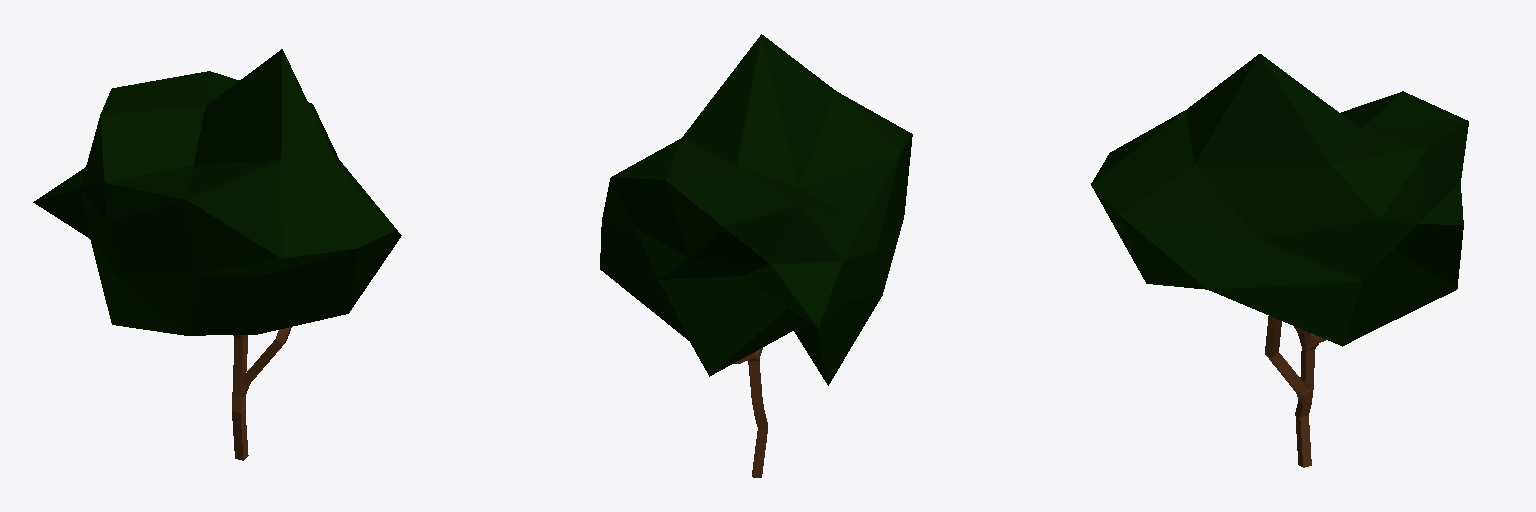
Rendered from tree2.obj.
3 views of the same model, side by side, from view 1: azimuth 30°, elevation 25°; view 2: azimuth 150°, elevation 25°; view 3: azimuth 270°, elevation 25° (orthographic).
Parts seen in each view (by area): view 1: Icosphere.005_Icosphere.006, Stem_Plane; view 2: Icosphere.005_Icosphere.006, Stem_Plane; view 3: Icosphere.005_Icosphere.006, Stem_Plane.
Boxes of the visible parts, box(x1,y1,x2,y2) form: Icosphere.005_Icosphere.006: box(33, 49, 401, 335); Stem_Plane: box(232, 327, 291, 460); Icosphere.005_Icosphere.006: box(600, 34, 912, 385); Stem_Plane: box(734, 348, 767, 477); Icosphere.005_Icosphere.006: box(1091, 54, 1468, 346); Stem_Plane: box(1265, 316, 1325, 467).
Size of the model in its own units: 4.26 by 6.27 by 5.1.